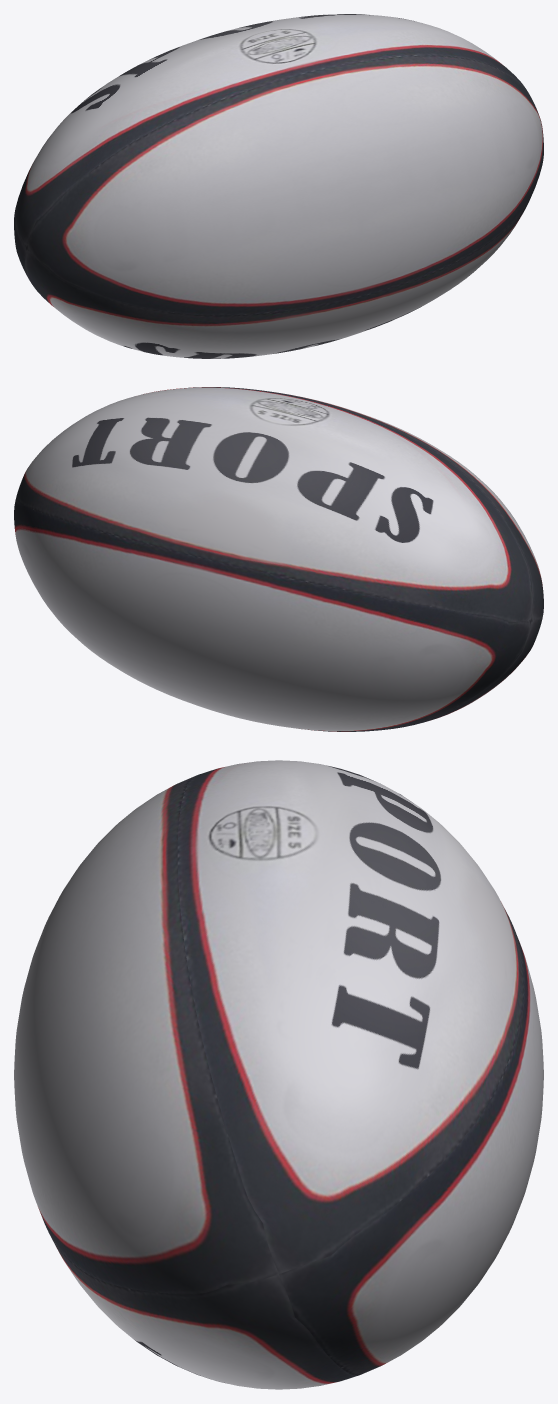
Rendered from 10525_Rugby_Ball_v1_L3.obj.
The picture shows the model from 3 angles, top to bottom: view 1: azimuth 30°, elevation 25°; view 2: azimuth 150°, elevation 25°; view 3: azimuth 270°, elevation 25°; orthographic projection. The views are drawn at different scales.
Parts seen in each view (by area): view 1: 10525_Rugby_Ball_v1; view 2: 10525_Rugby_Ball_v1; view 3: 10525_Rugby_Ball_v1.
Part boxes in pixels (<box>): 10525_Rugby_Ball_v1: <box>14,14,543,358</box>; 10525_Rugby_Ball_v1: <box>14,387,543,731</box>; 10525_Rugby_Ball_v1: <box>14,760,543,1389</box>.
Size of the model in its own units: 35.36 by 19.87 by 19.87.
Materials: 1 (1 with a texture image).
